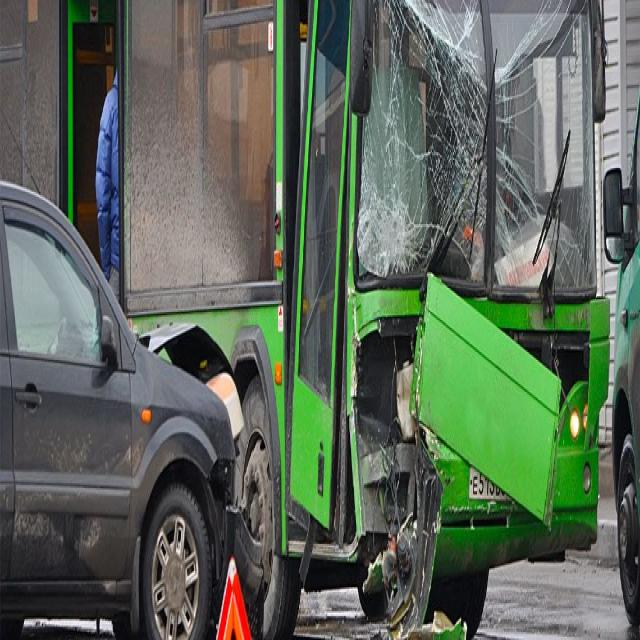Accident: (0, 0, 609, 640)
